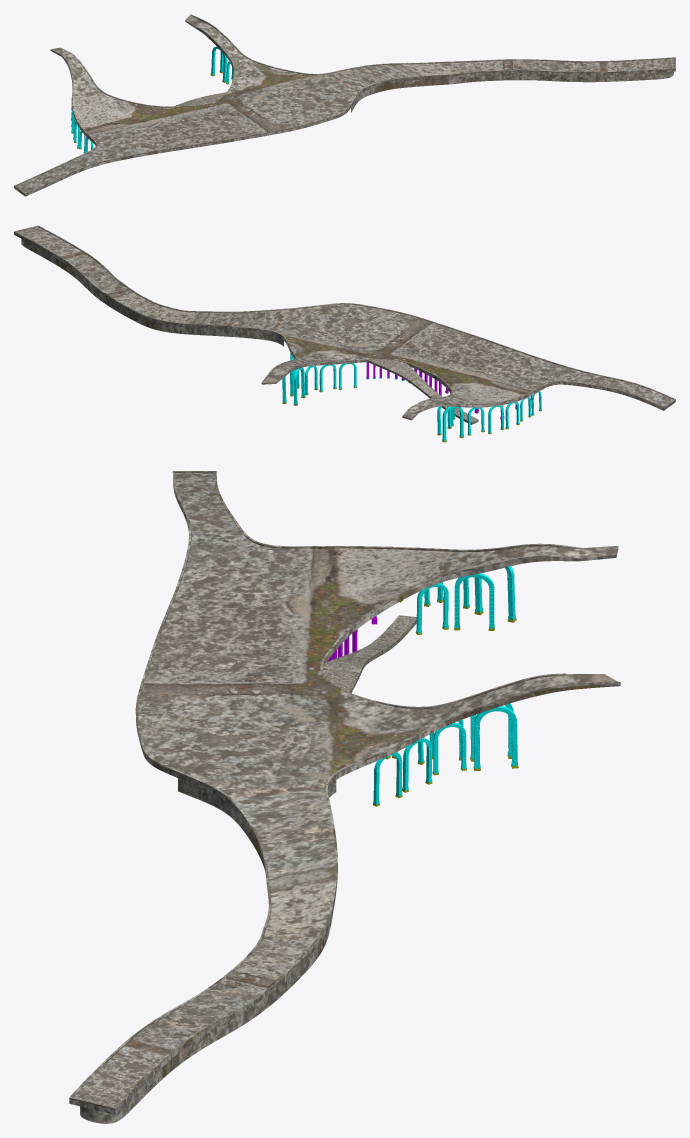
File: MarketPlaza.fbx
The picture shows the model from 3 angles, top to bottom: view 1: azimuth 30°, elevation 25°; view 2: azimuth 150°, elevation 25°; view 3: azimuth 270°, elevation 25°; orthographic projection. The views are drawn at different scales.
Parts seen in each view (by area): view 1: Plaza.002, Plaza.001, Small Ramp; view 2: Plaza.002, Plaza.001, Small Ramp; view 3: Plaza.002, Plaza.001, Small Ramp.
Part boxes in pixels (x1=…): Plaza.002: x1=14, y1=15, x2=675, y2=196; Plaza.001: x1=14, y1=14, x2=675, y2=194; Small Ramp: x1=174, y1=92, x2=226, y2=106; Plaza.002: x1=14, y1=227, x2=675, y2=420; Plaza.001: x1=14, y1=225, x2=675, y2=411; Small Ramp: x1=367, y1=359, x2=478, y2=424; Plaza.002: x1=69, y1=473, x2=620, y2=1123; Plaza.001: x1=69, y1=471, x2=620, y2=1110; Small Ramp: x1=323, y1=615, x2=416, y2=692.
Size of the model in its own units: 98338 by 7277 by 36894.
